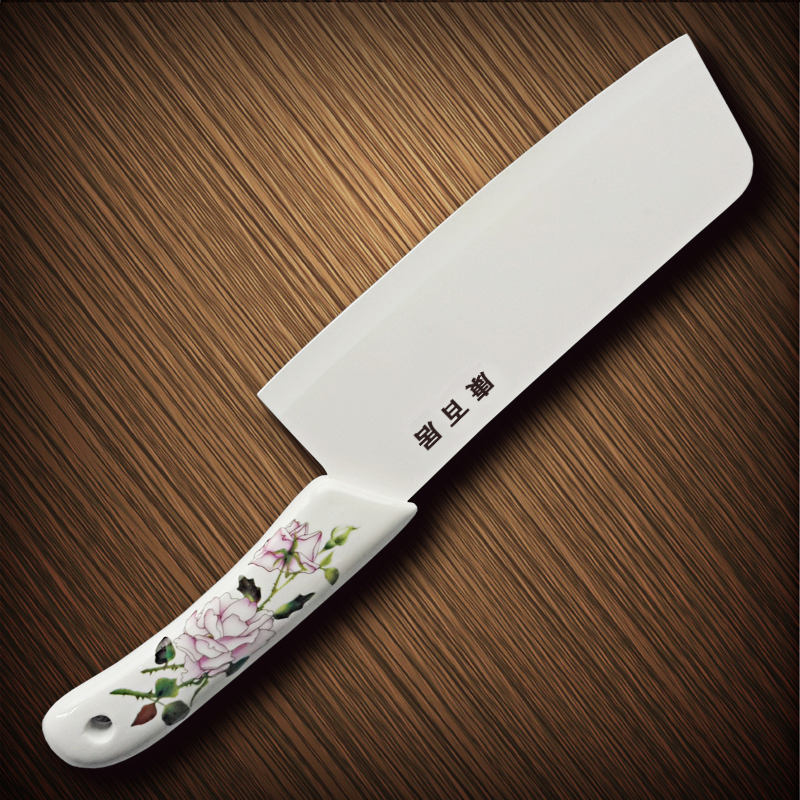knief: (36, 38, 745, 757)
